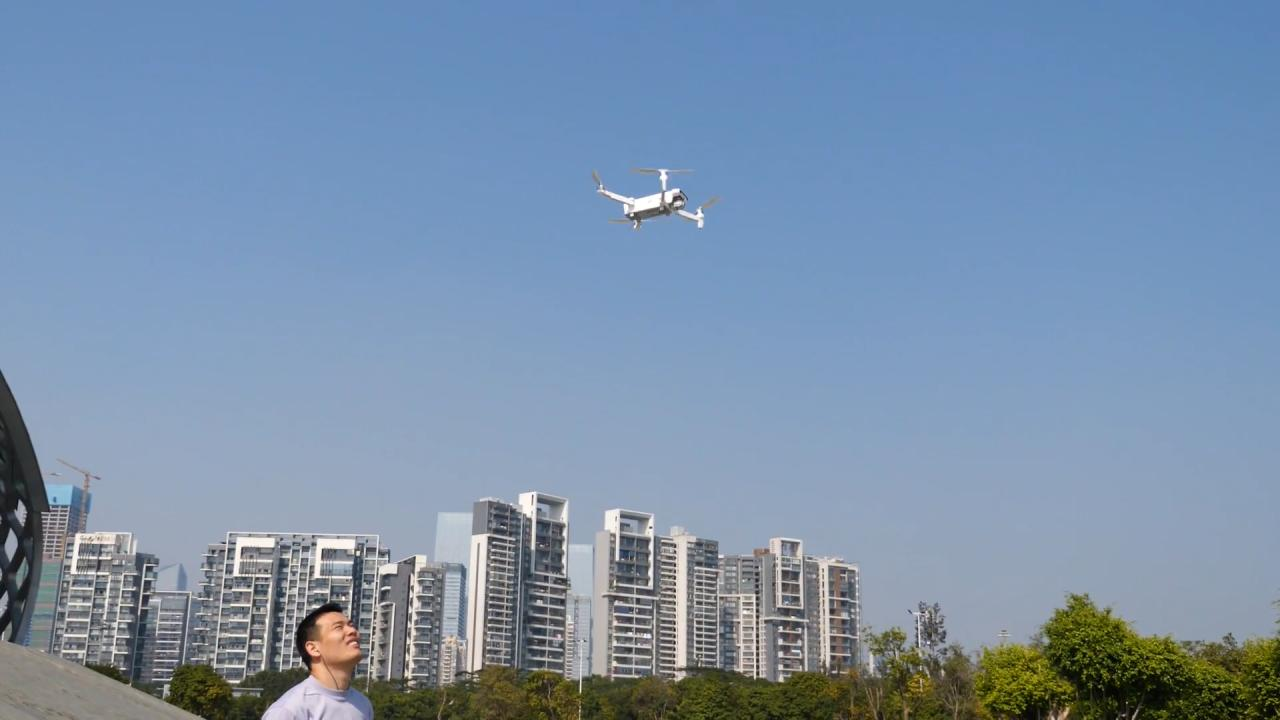Drone: (578, 154, 734, 244)
